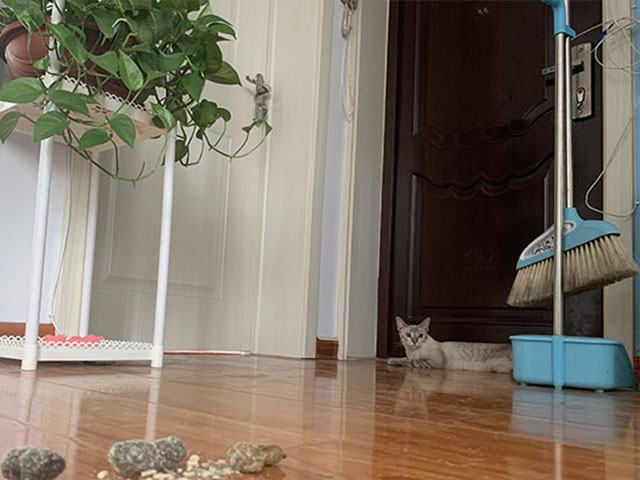feces: (105, 434, 186, 478), (1, 444, 67, 480), (227, 439, 288, 474)
